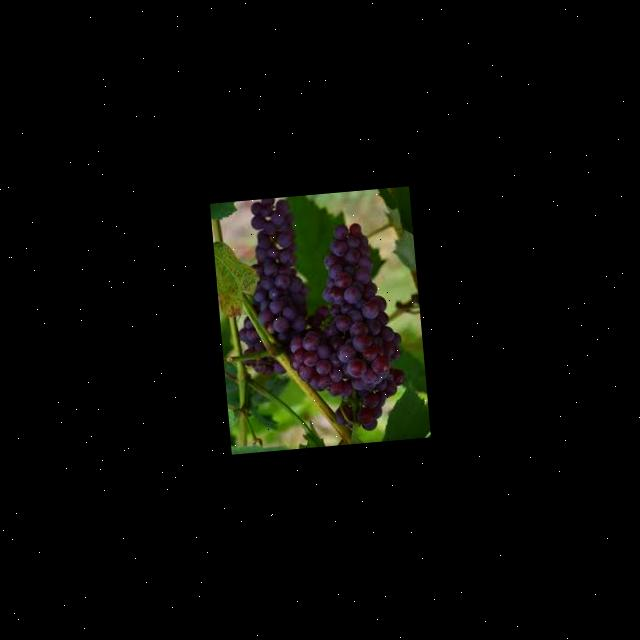grape: (228, 188, 410, 442)
